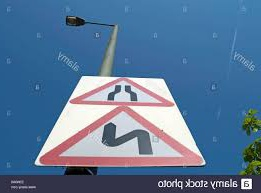Double_bend_left: (39, 104, 205, 167)
